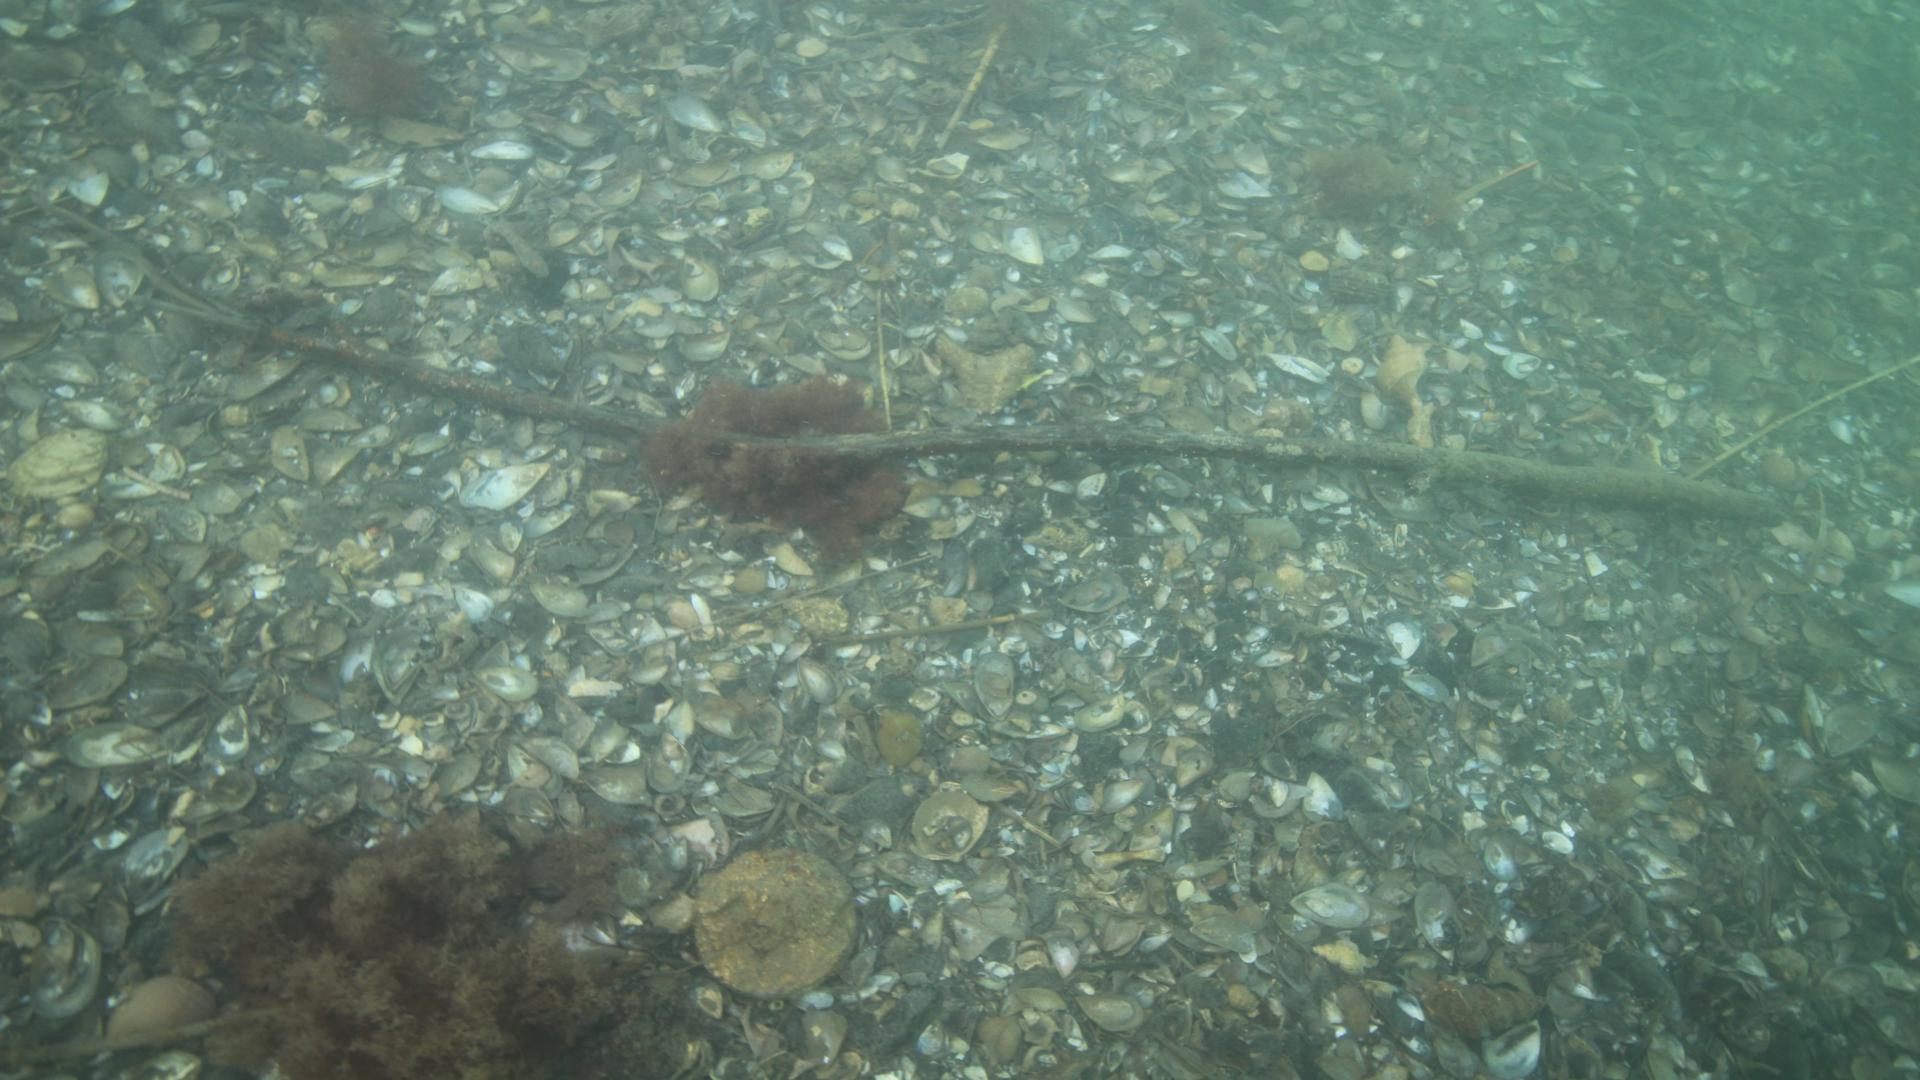wood: (222, 316, 1774, 520)
